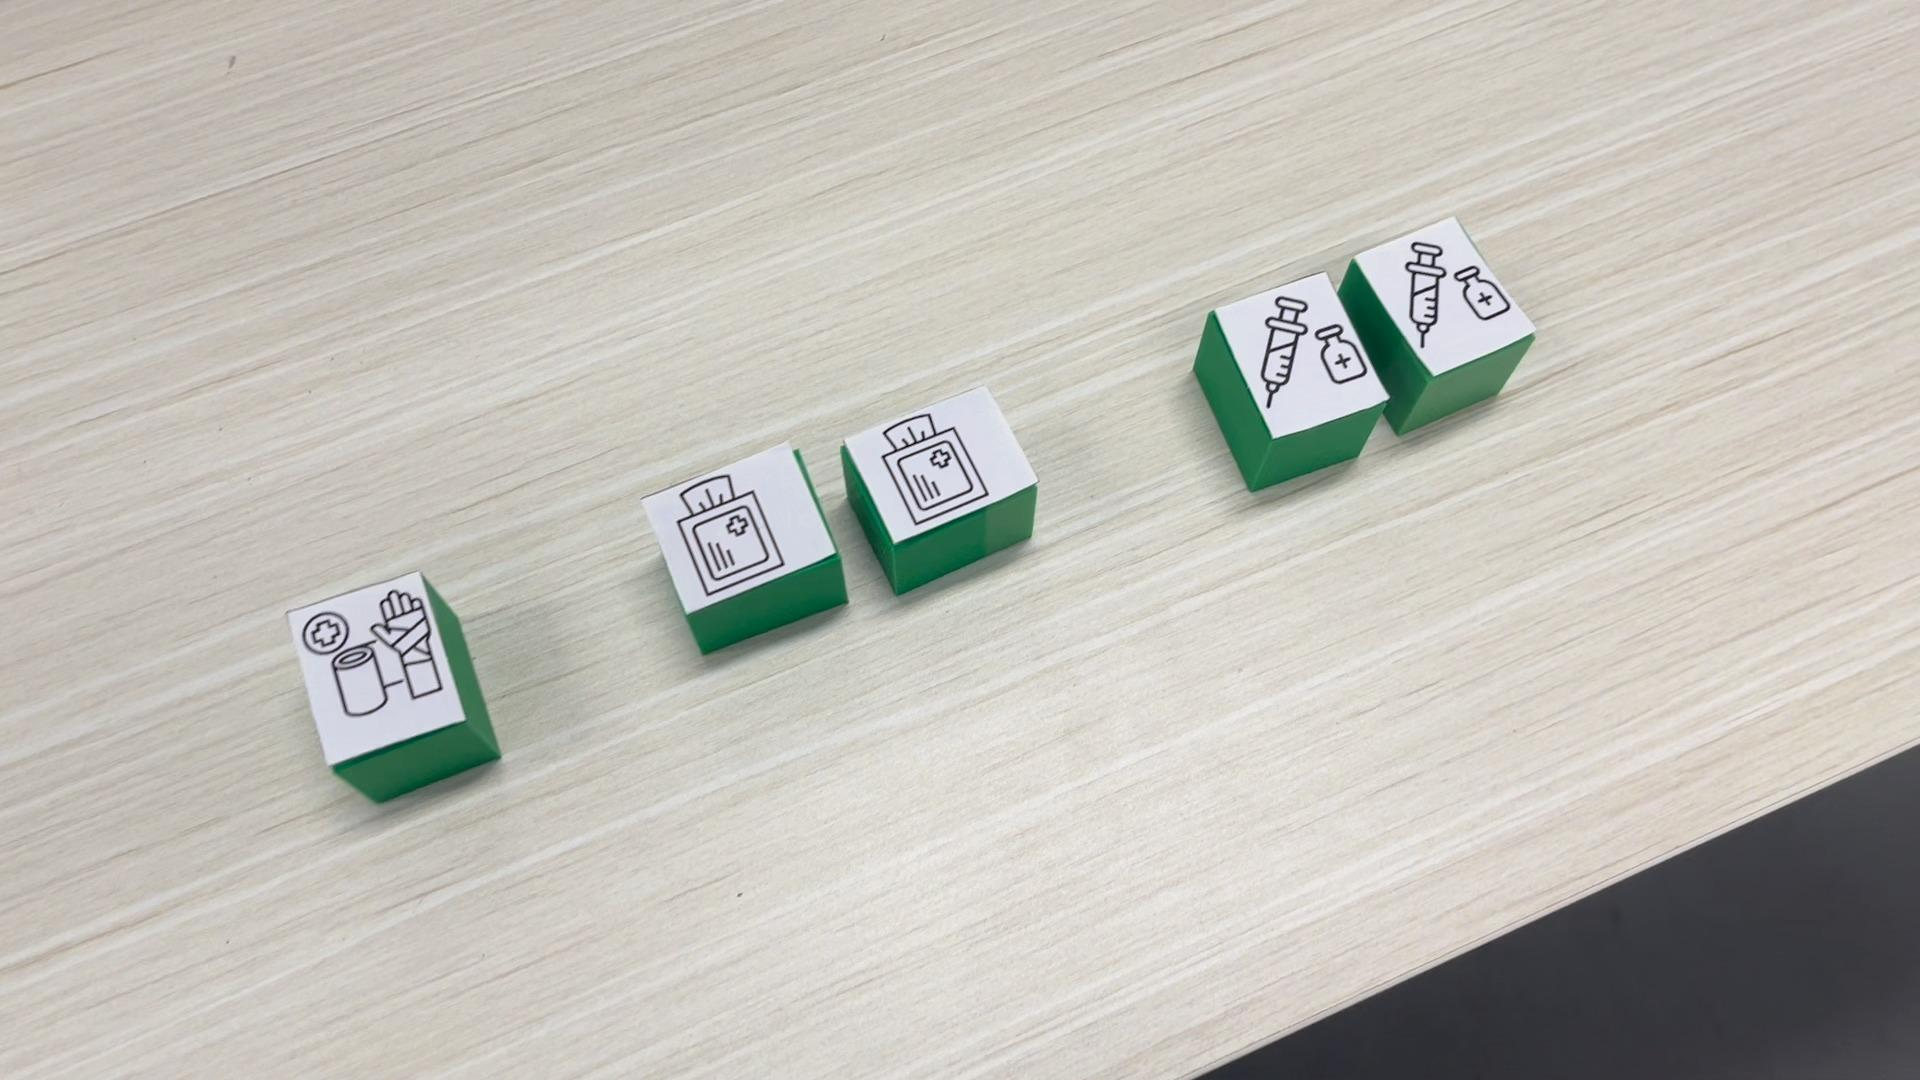Bandages: (284, 570, 502, 803)
Gauze: (644, 443, 848, 654), (840, 385, 1038, 599)
antiseptic cream: (1189, 270, 1387, 491), (1352, 215, 1542, 438)
